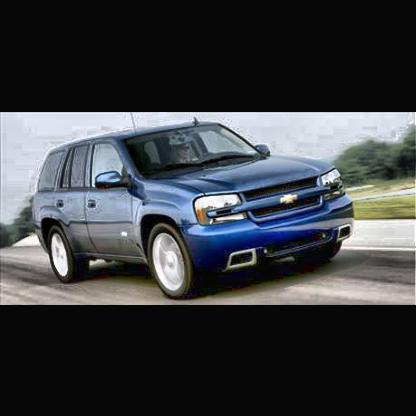Chevrolet TrailBlazer SS 2009: (32, 116, 357, 302)
